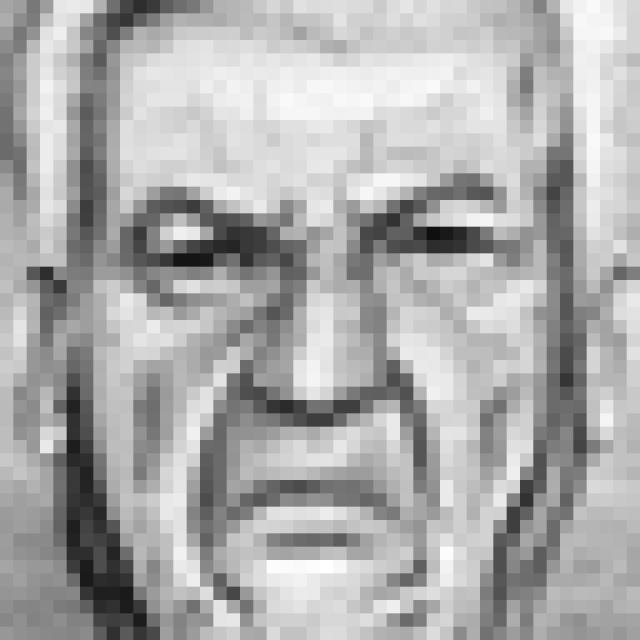disgust: (106, 147, 538, 633)
